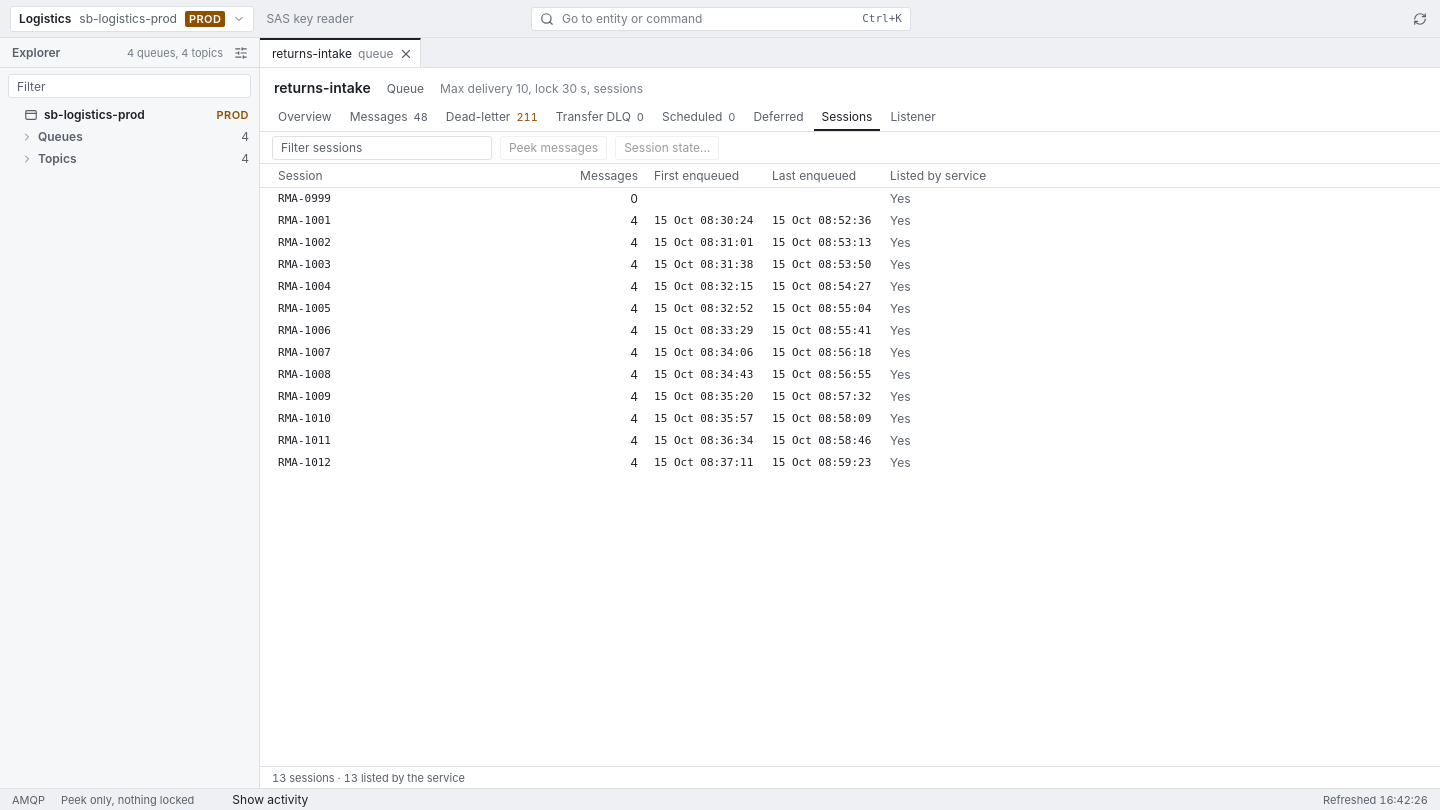
Scenario: sessions › disables Peek messages when the focused session is filtered out
Click the row "RMA-1003 4 15 Oct 08:31:38 15 Oct 08:53:50 Yes" at [305, 264], box x1=278 y1=257 x2=911 y2=272
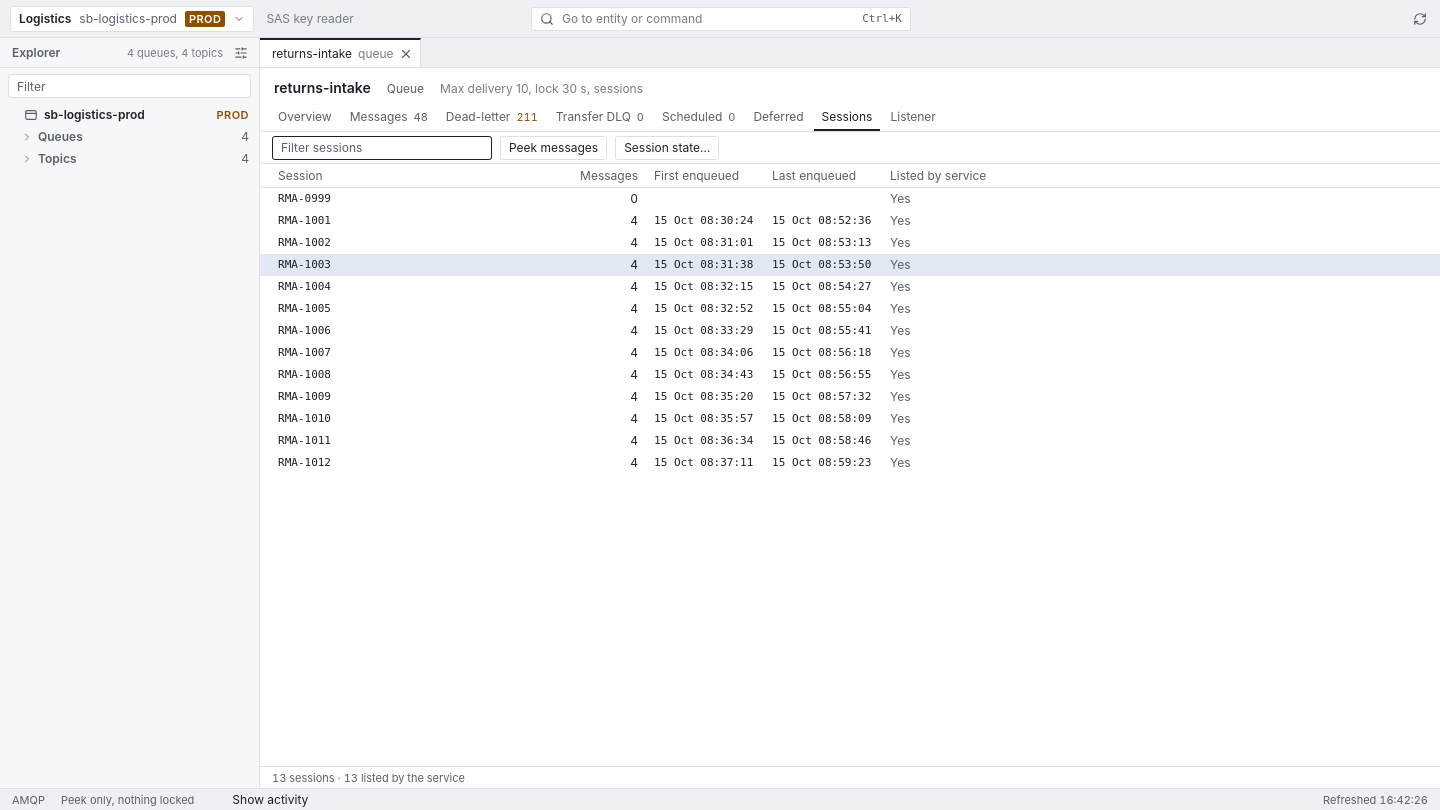
Result: the button "Peek messages" is enabled at x1=500 y1=136 x2=607 y2=160
Type keys "0999"
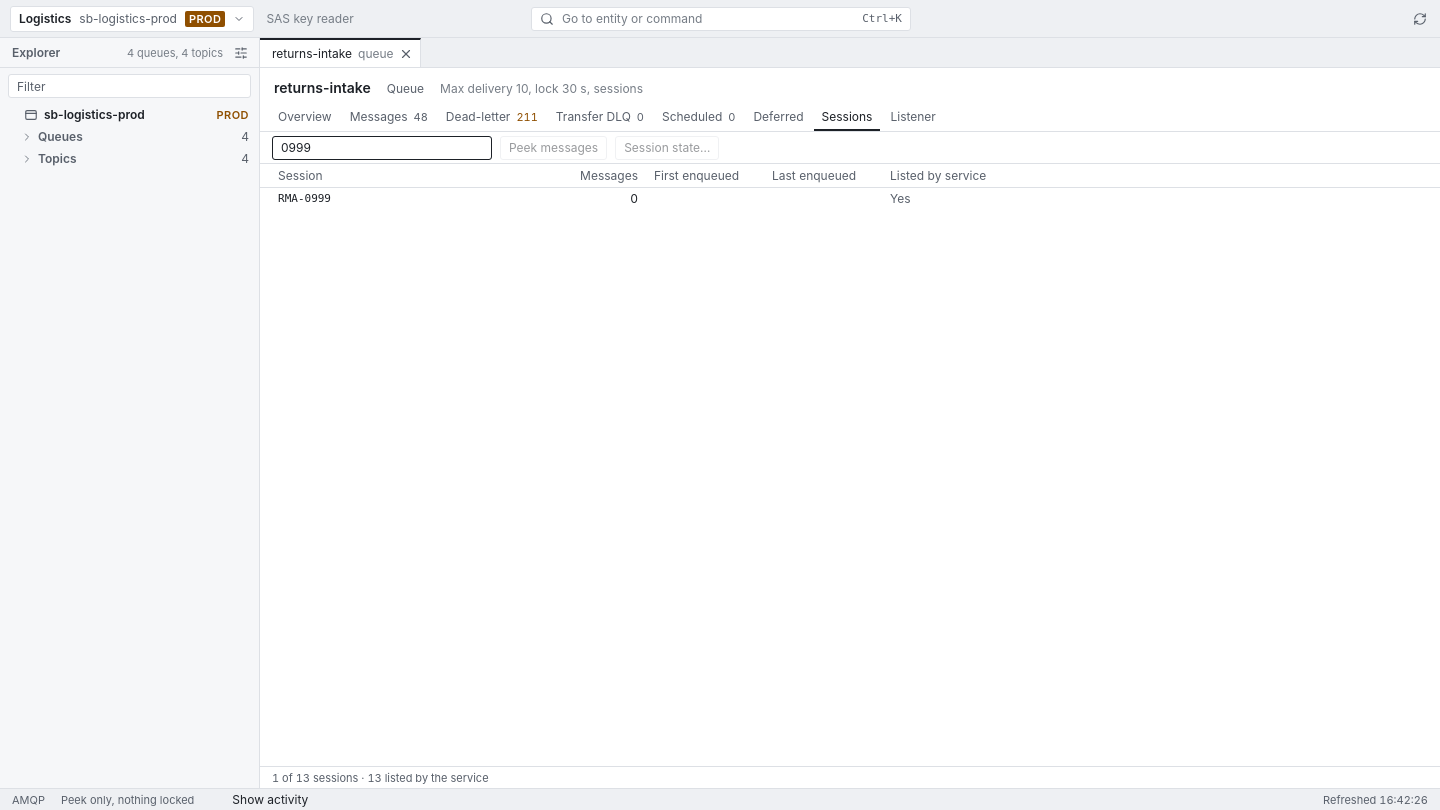
Result: the button "Peek messages" is disabled at x1=500 y1=136 x2=607 y2=160
